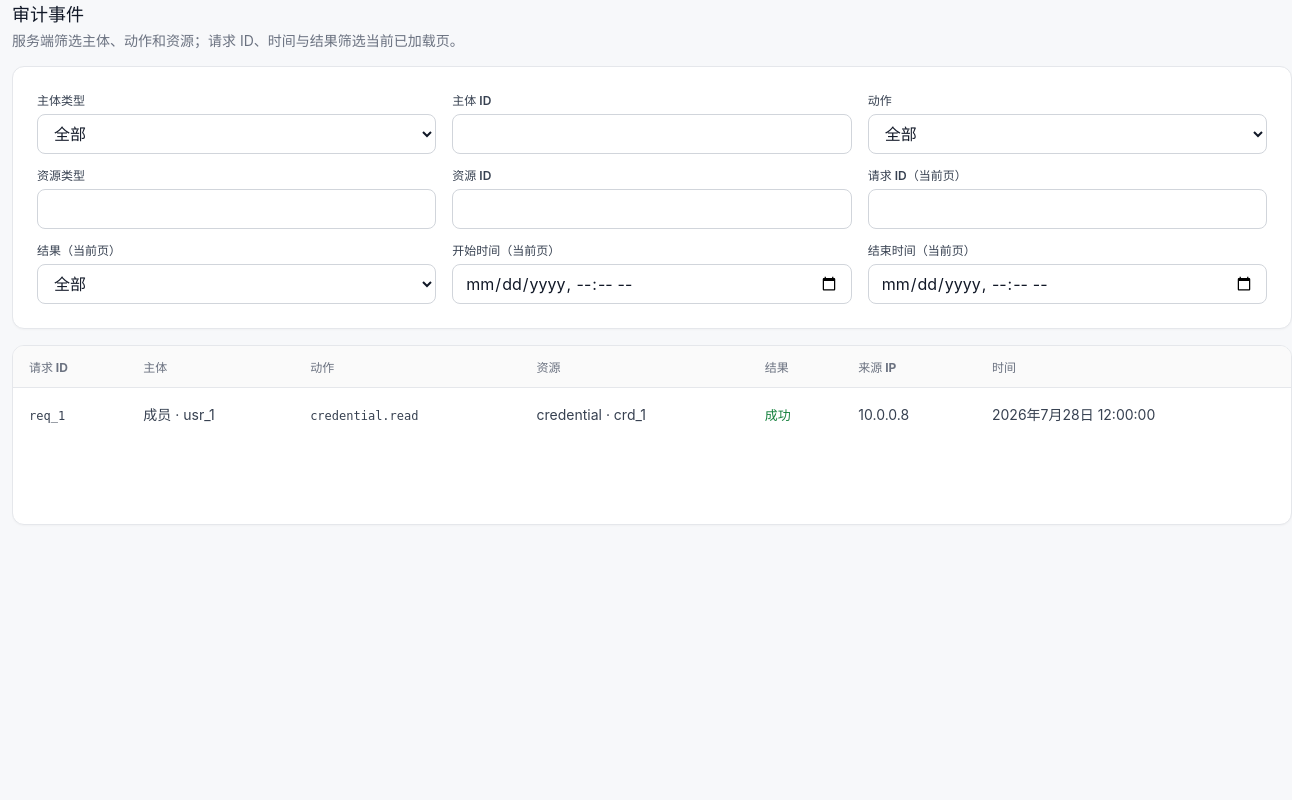
audit page › detaches old evidence immediately when server filters change and keeps it clear on failure
expect the text "req_1" is shown: met, box x1=29 y1=409 x2=65 y2=423
Select "credential.read" in the dropdown labelled "动作". click: (1067, 134)
box: x1=868 y1=114 x2=1267 y2=154
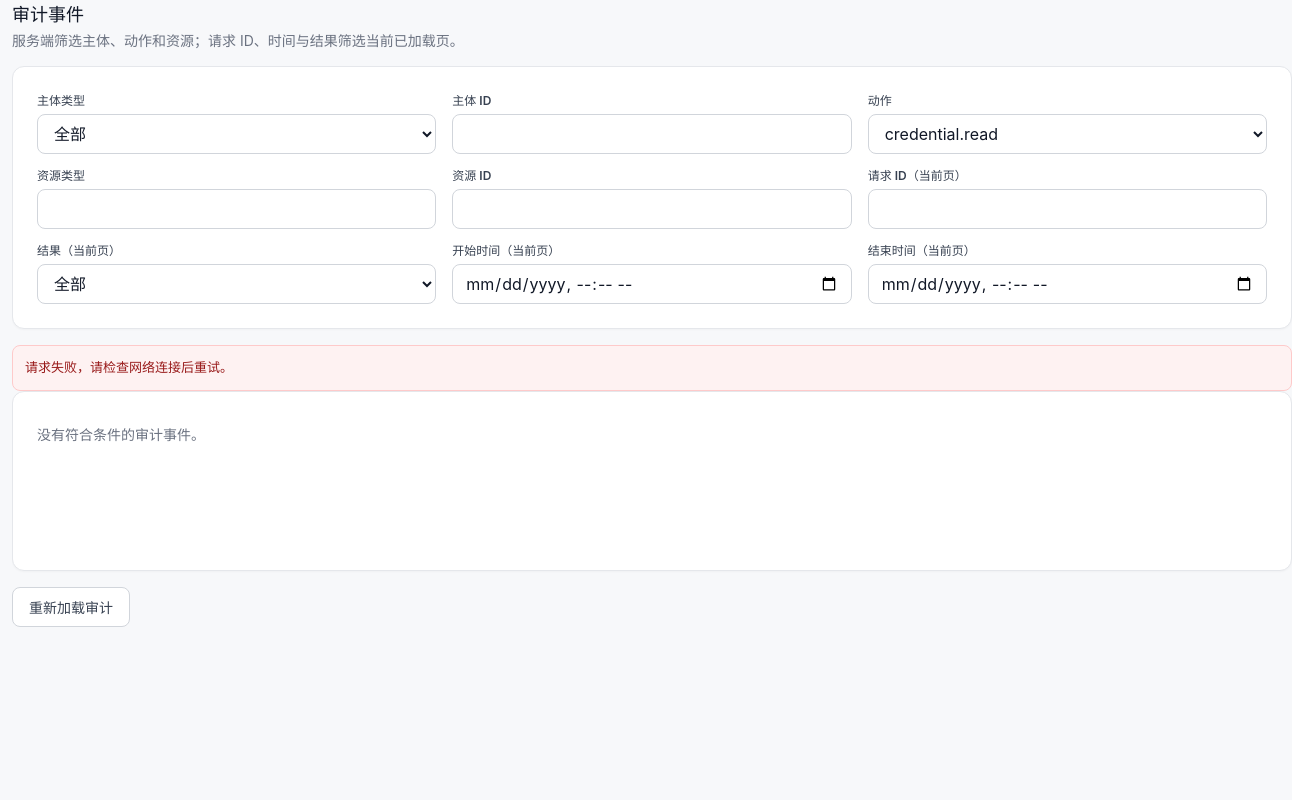
expect the message "请求失败，请检查网络连接后重试。" is shown: met, box x1=12 y1=345 x2=1291 y2=391
expect the text "req_1" is gone: met
Click the button "重新加载审计". click: (71, 607)
box: x1=12 y1=587 x2=130 y2=627
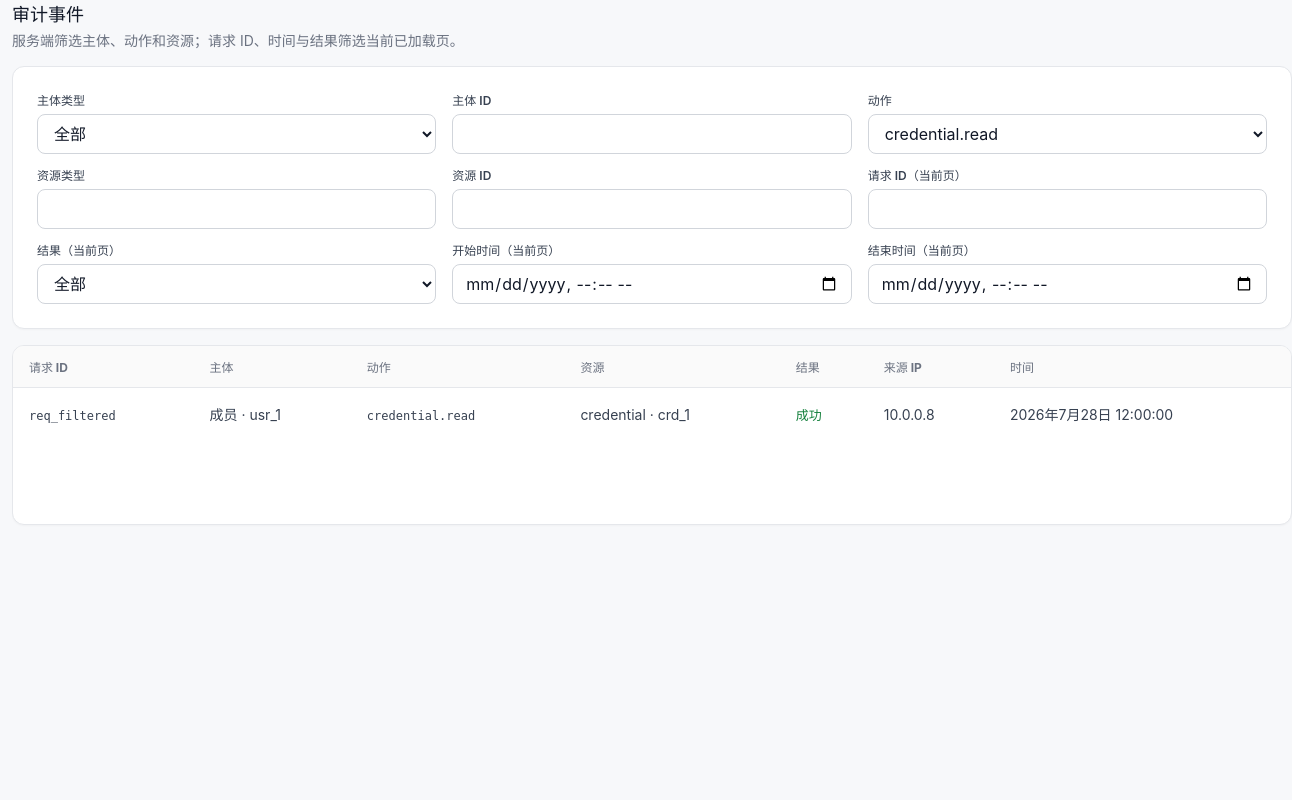
expect the text "req_filtered" is shown: met, box x1=29 y1=409 x2=116 y2=423
